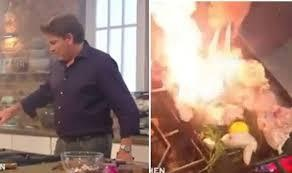fire: (150, 0, 272, 132)
